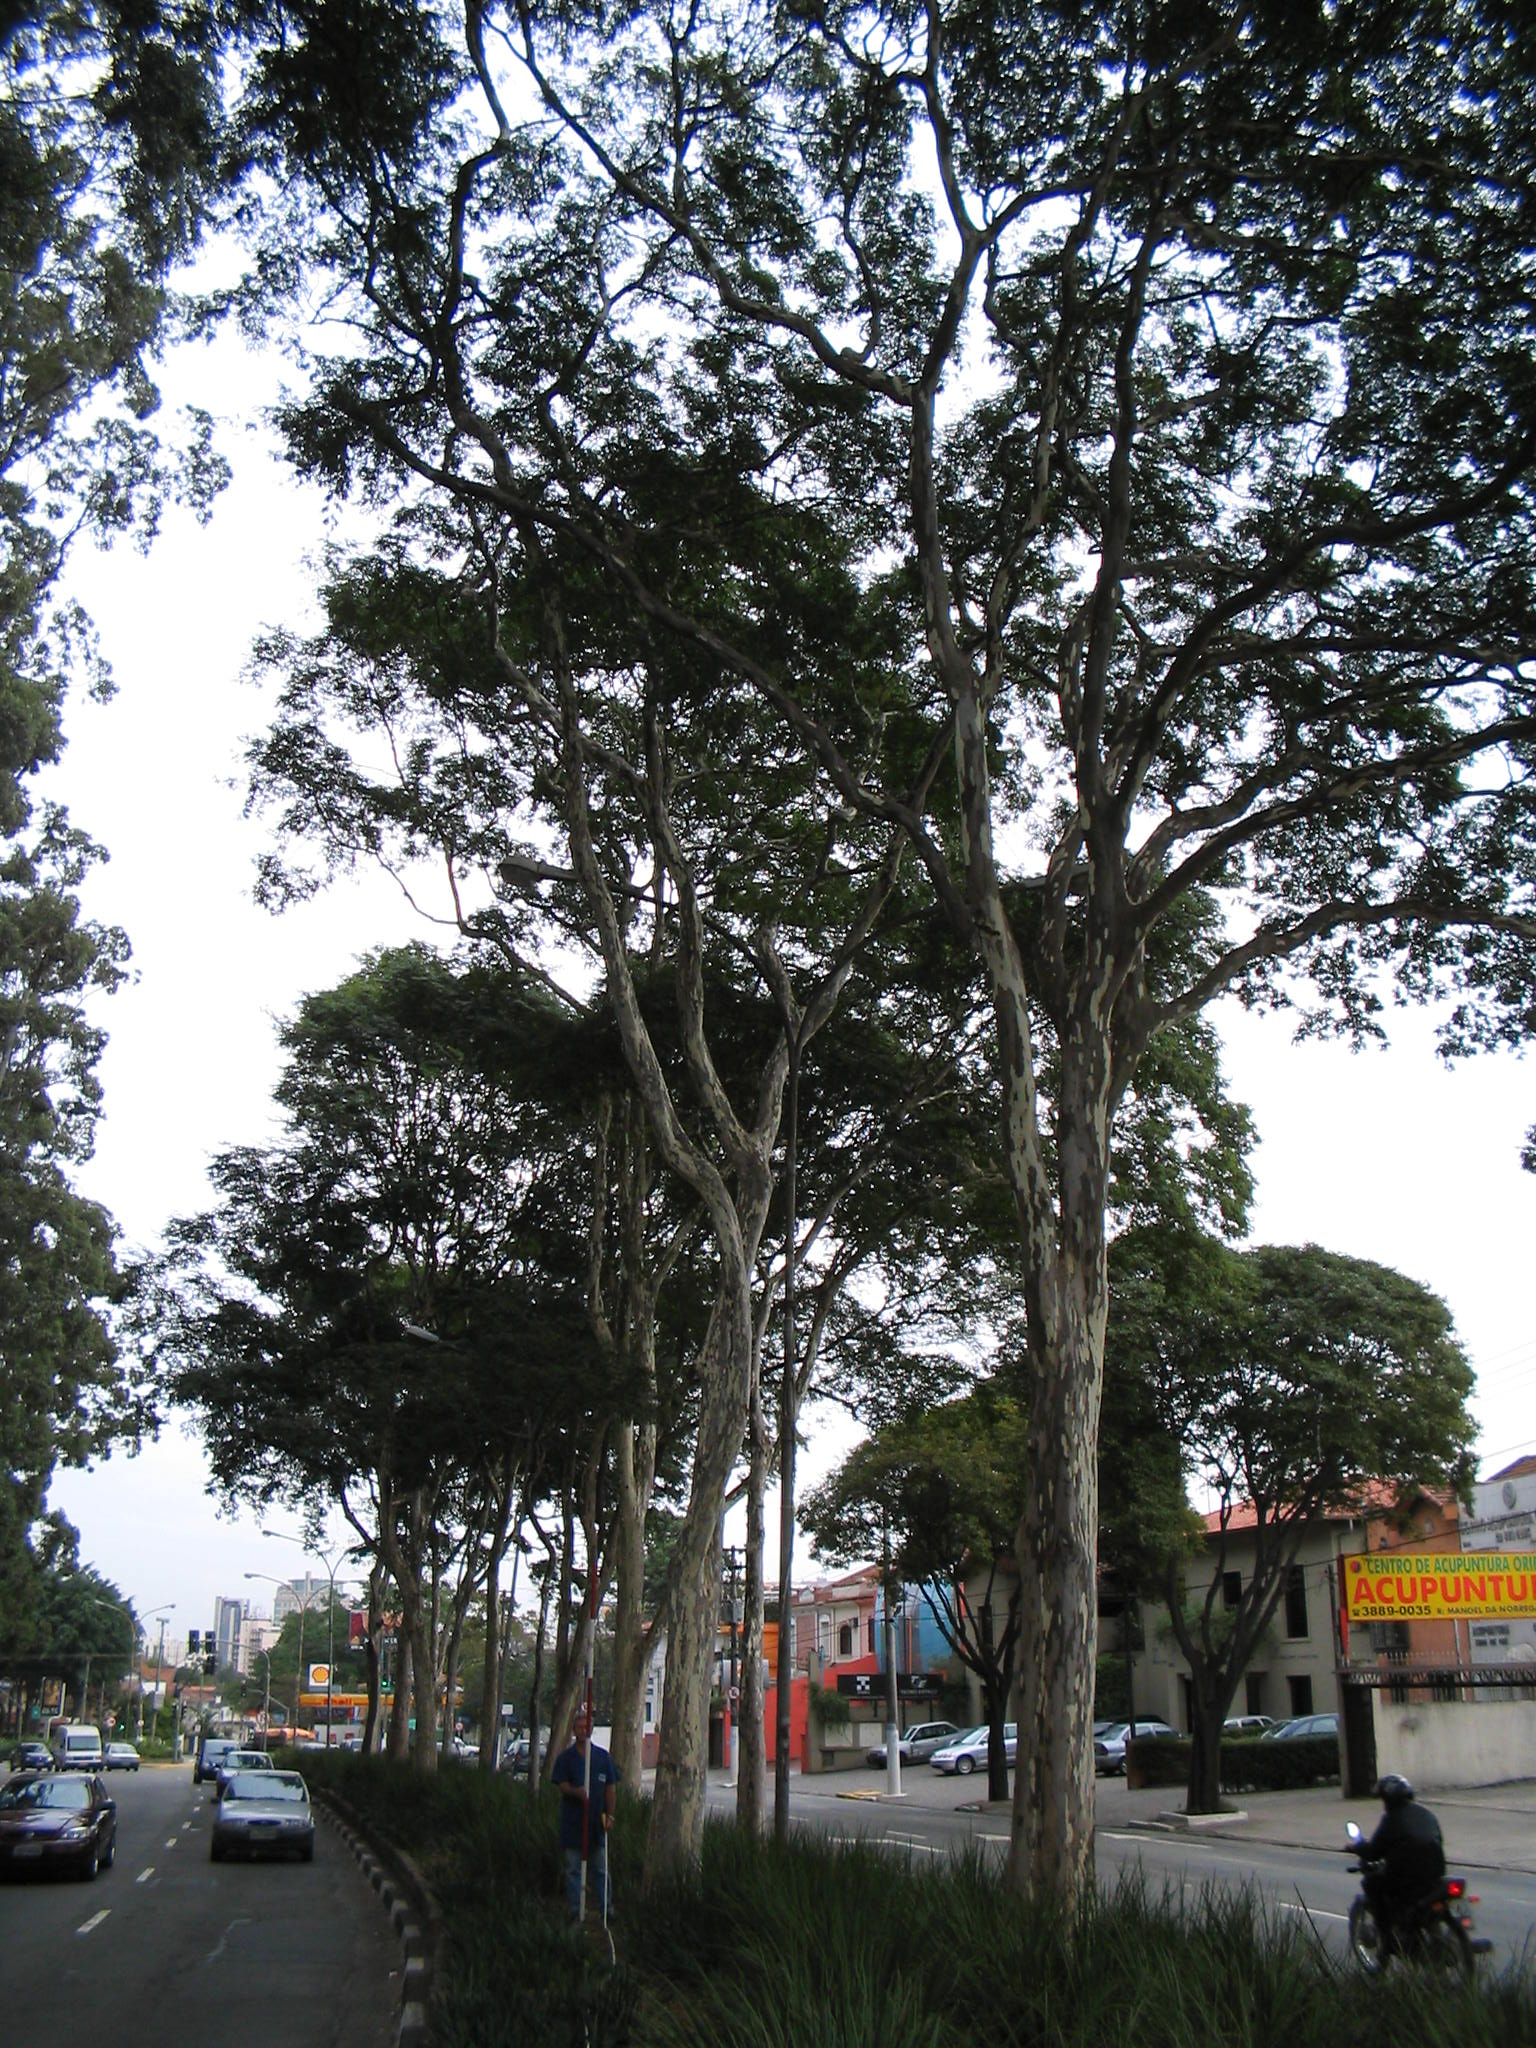crown: (1112, 1237, 1470, 1590)
stem: (1167, 1687, 1246, 1811)
stick: (549, 1555, 628, 1924)
tree: (1096, 1229, 1478, 1811)
